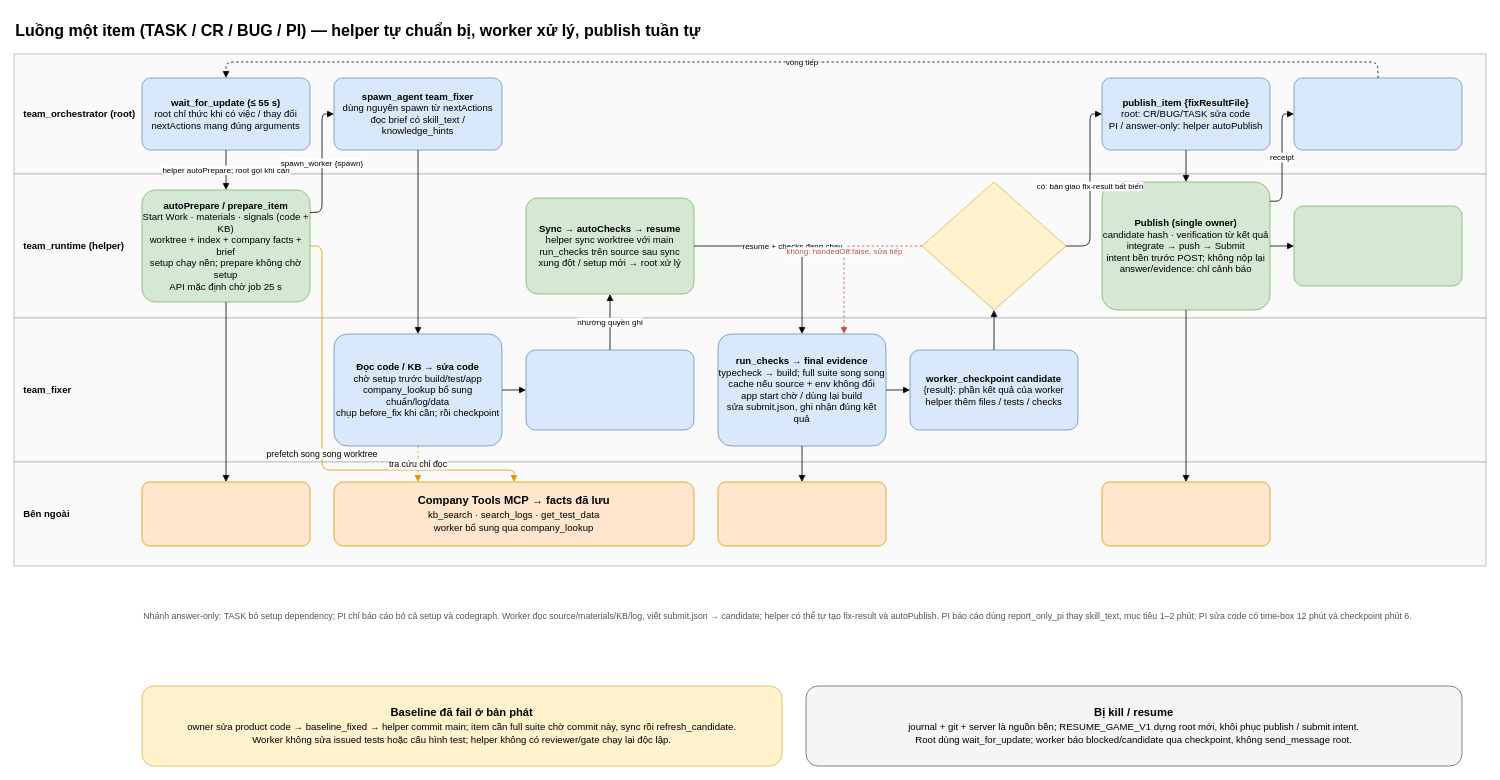
This 1500x780 diagram has some shape labels left out. Here are the shapes that lost their labels. From the top down, the centre of each, then its label:
(x=1377, y=113): stop_worker quay lại wait_for_update
(x=993, y=245): Hợp lệ? schema · submit.json test đã phát / cấu hình test
(x=1377, y=245): report_progress progress log NDJSON → Player
(x=609, y=389): worker_checkpoint ready_for_evidence
(x=225, y=513): Game Master Start Work (+ MVS cho CR/BUG)
(x=801, y=513): Edge/Chrome → app local playwright-core
(x=1185, y=513): GitHub push + GM Submit receipt = submission.id
